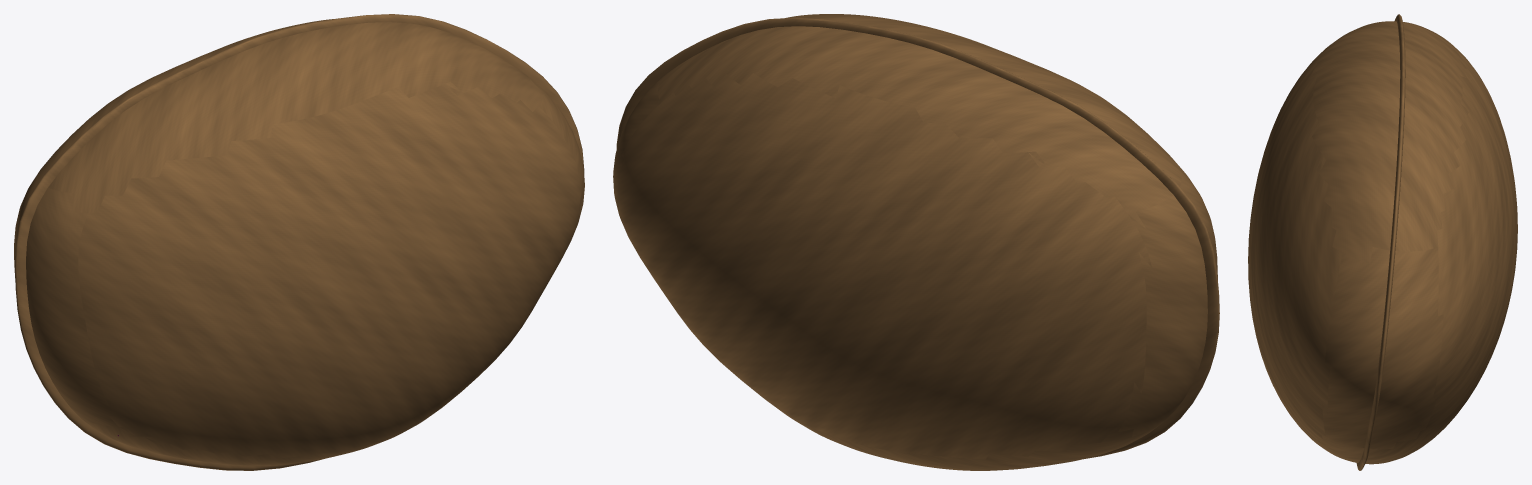
The model's file is cell-hq.glb.
The picture shows the model from 3 angles, left to right: view 1: azimuth 30°, elevation 25°; view 2: azimuth 150°, elevation 25°; view 3: azimuth 270°, elevation 25°; orthographic projection. The views are drawn at different scales.
Visible parts, largest first — view 1: cell_part_17_base_003, cell_part_17_base_002, cell_part_17_base_001; view 2: cell_part_17_base_001, cell_part_17_base_002, cell_part_17_base_003; view 3: cell_part_17_base_003, cell_part_17_base_001, cell_part_17_base_002.
Boxes of the visible parts, x1,y1,x2,y2 form: cell_part_17_base_003: (26, 22, 584, 465); cell_part_17_base_002: (15, 14, 584, 470); cell_part_17_base_001: (14, 19, 333, 277); cell_part_17_base_001: (613, 26, 1207, 470); cell_part_17_base_002: (616, 17, 1219, 458); cell_part_17_base_003: (785, 14, 1217, 279); cell_part_17_base_003: (1248, 21, 1400, 462); cell_part_17_base_001: (1365, 22, 1517, 464); cell_part_17_base_002: (1356, 14, 1405, 470).
Bounding box in the file's own units: 7.34 × 5.13 × 3.33.
Materials: 20 (20 with a texture image).
